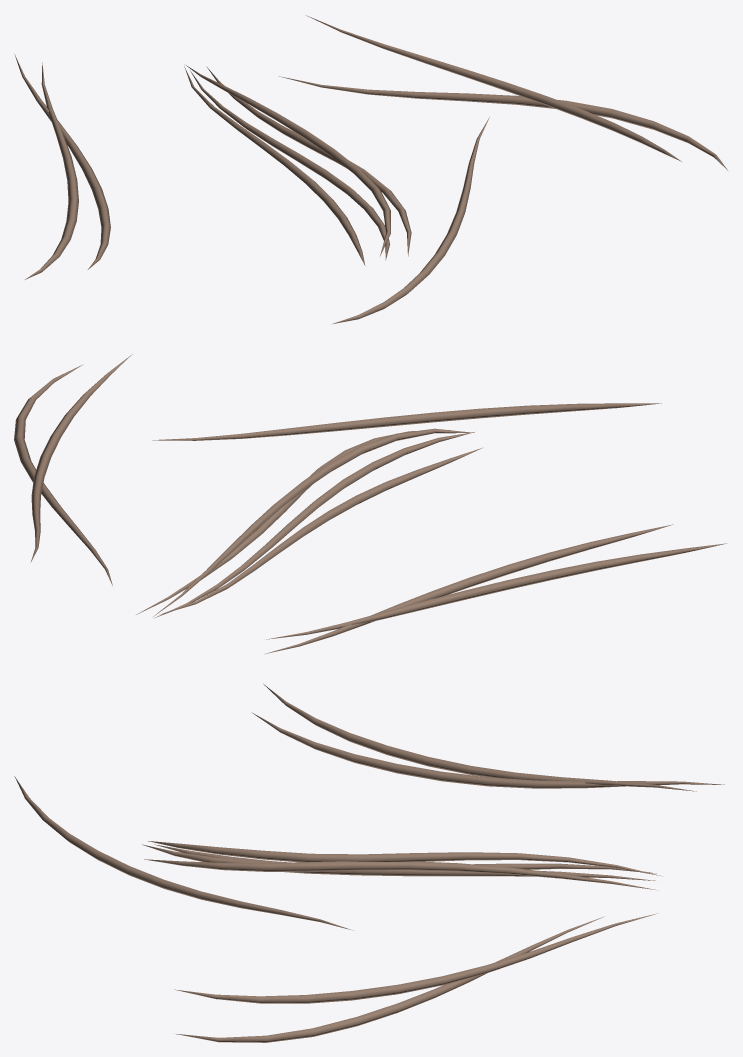
File: hair strands.fbx
The picture shows the model from 3 angles, top to bottom: view 1: azimuth 30°, elevation 25°; view 2: azimuth 150°, elevation 25°; view 3: azimuth 270°, elevation 25°; orthographic projection. The views are drawn at different scales.
Parts seen in each view (by area): view 1: hair strands; view 2: hair strands; view 3: hair strands.
Part boxes in pixels (box(x1,y1,x2,y2)): hair strands: box(14, 15, 727, 324); hair strands: box(14, 354, 727, 654); hair strands: box(14, 684, 724, 1042).
Size of the model in its own units: 0.5529 by 0.0288 by 0.4996.
